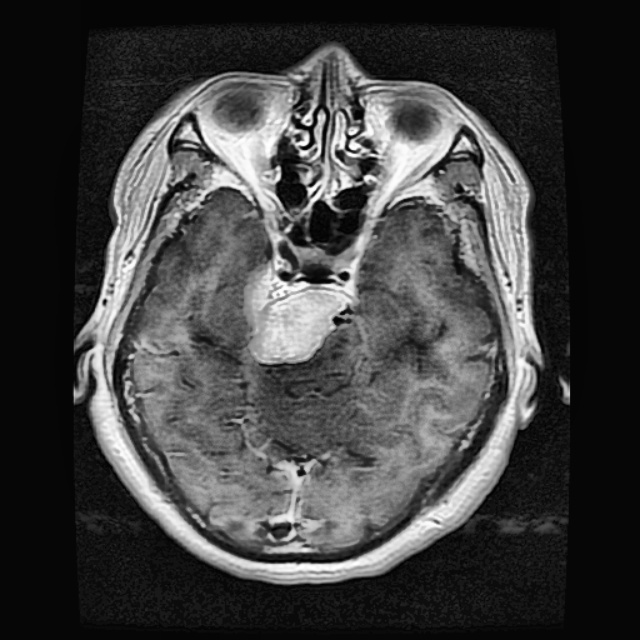Pituitary: (243, 267, 349, 362)
